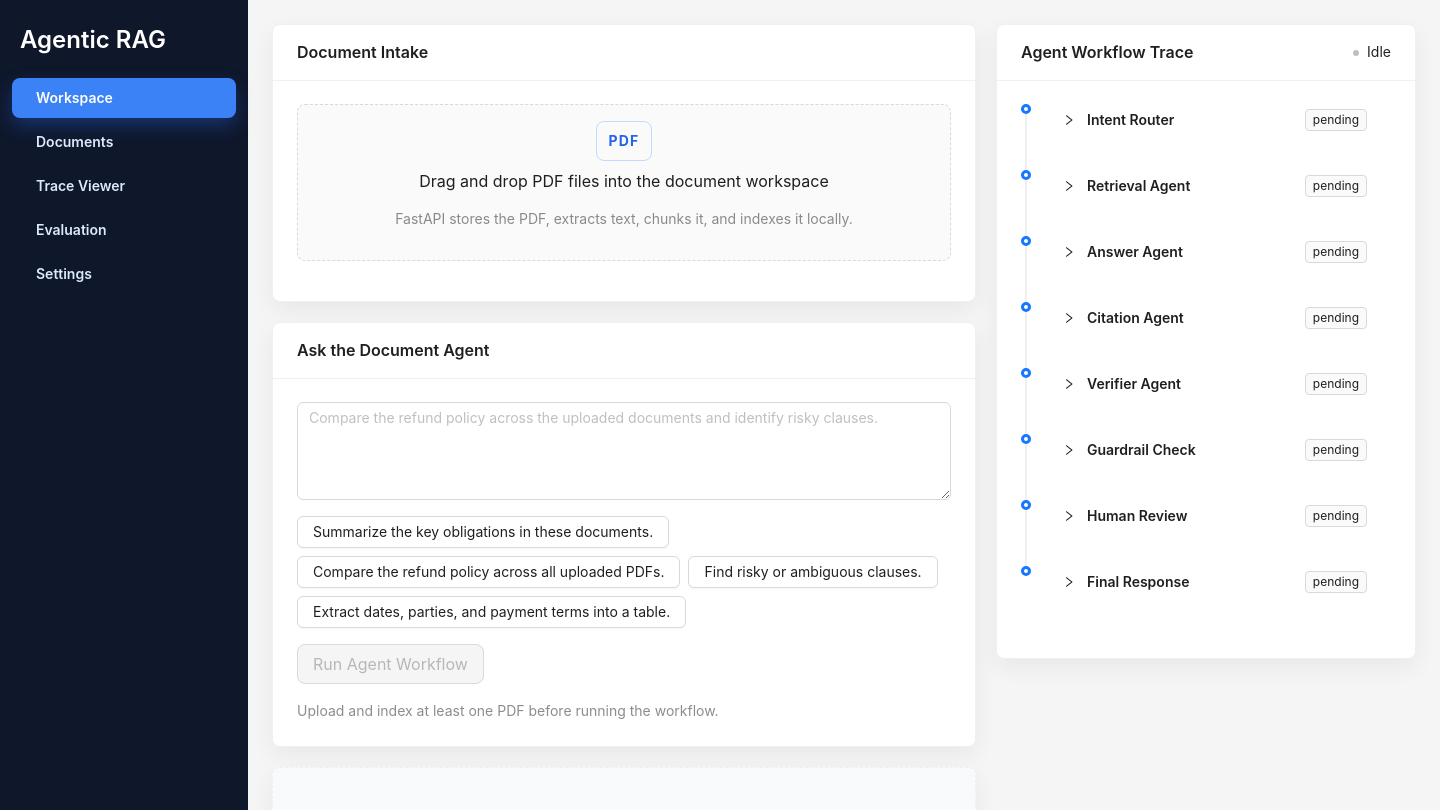
Test: shows configurable runtime settings
The width and height of the screenshot is (1440, 810).
What coordinates should you click on to do the following:
click the menu item "Settings"
I would click on:
 (64, 274)
Its box is [36,265,92,282].
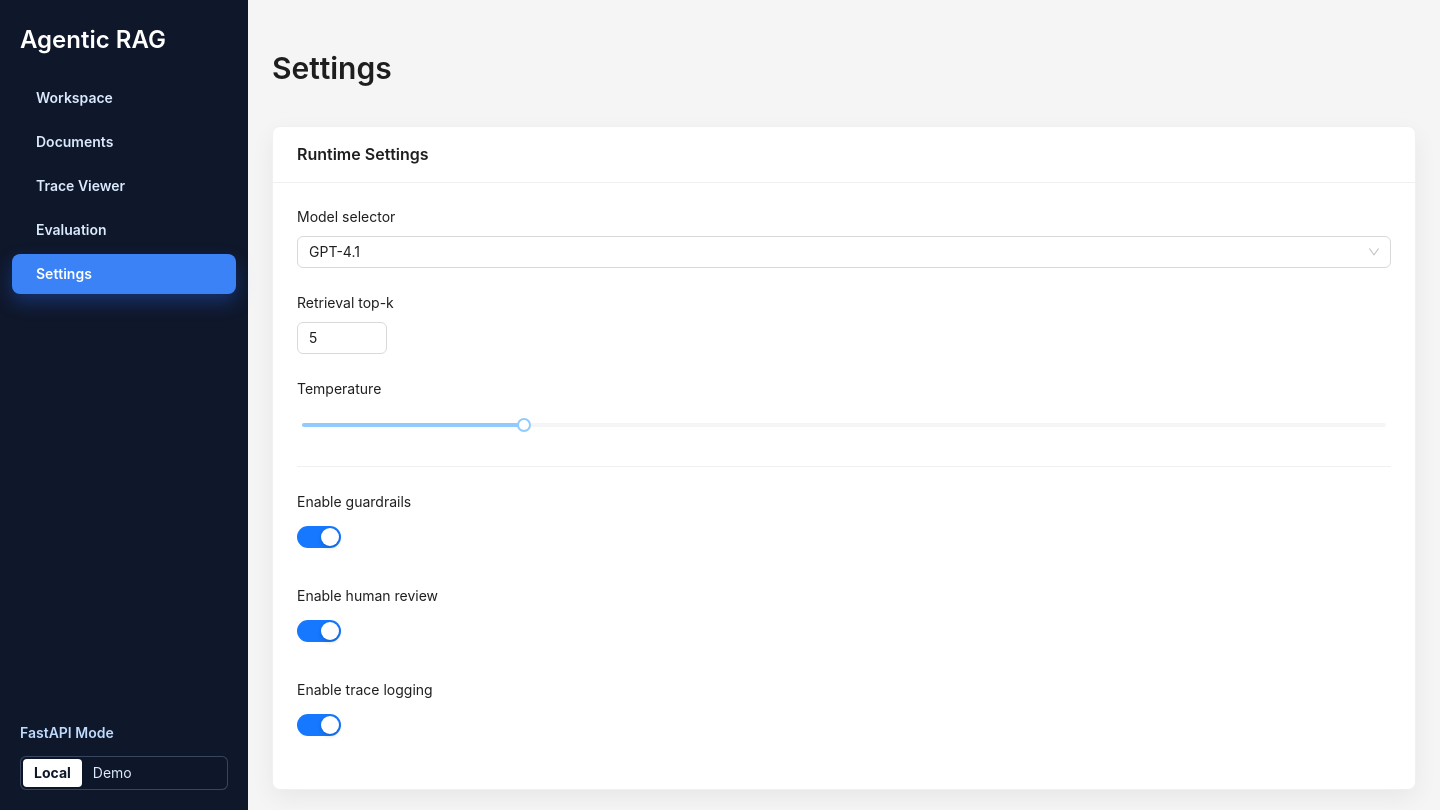
Expected: the heading "Settings" is shown, [272,50,392,86]
Expected: the text "GPT-4.1" is shown, [309,243,360,260]
Expected: the number field holds "5", [298,323,386,353]
